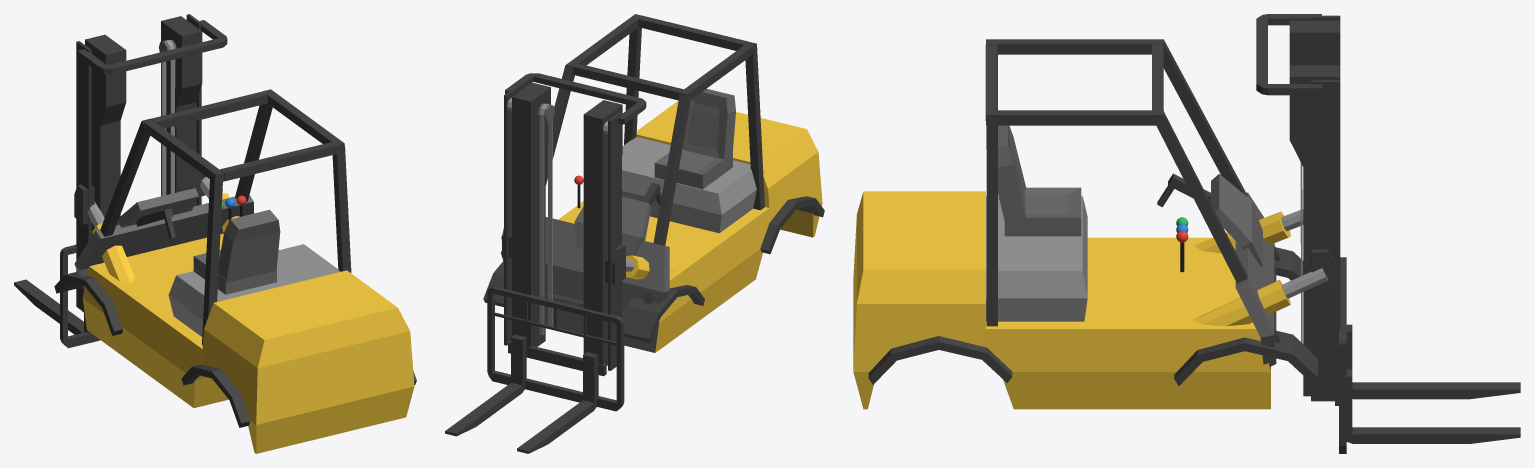
The model's file is body.glb.
3 views of the same model, side by side, from view 1: azimuth 30°, elevation 25°; view 2: azimuth 150°, elevation 25°; view 3: azimuth 270°, elevation 25° (orthographic). The views are drawn at different scales.
Parts seen in each view (by area): view 1: Forklift_Source_52, Forklift_Source_20, Forklift_Source_18, Forklift_Source_50, Forklift_Source_55, Forklift_Source_51, Forklift_Source_19, Forklift_Source_16, Forklift_Source_3, Forklift_Source_13, Forklift_Source_2, Forklift_Source_11 (+14 smaller); view 2: Forklift_Source_52, Forklift_Source_18, Forklift_Source_55, Forklift_Source_20, Forklift_Source_50, Forklift_Source_35, Forklift_Source_51, Forklift_Source_19, Forklift_Source_58, Forklift_Source_2, Forklift_Source_37, Forklift_Source_36 (+19 smaller); view 3: Forklift_Source_52, Forklift_Source_55, Forklift_Source_17, Forklift_Source_18, Forklift_Source_47, Forklift_Source_37, Forklift_Source_36, Forklift_Source_50, Forklift_Source_10, Forklift_Source_15, Forklift_Source_1, Forklift_Source_14 (+15 smaller).
Boxes of the visible parts, x1,y1,x2,y2 form: Forklift_Source_52: (82, 233, 414, 453); Forklift_Source_20: (85, 34, 126, 236); Forklift_Source_18: (161, 16, 202, 206); Forklift_Source_50: (74, 195, 253, 289); Forklift_Source_55: (168, 244, 340, 336); Forklift_Source_51: (218, 209, 280, 282); Forklift_Source_19: (76, 41, 91, 312); Forklift_Source_16: (77, 20, 227, 74); Forklift_Source_3: (202, 173, 222, 344); Forklift_Source_13: (332, 145, 351, 272); Forklift_Source_2: (98, 121, 150, 263); Forklift_Source_11: (220, 142, 337, 181); Forklift_Source_52: (558, 100, 822, 352); Forklift_Source_18: (512, 82, 550, 347); Forklift_Source_55: (622, 137, 756, 233); Forklift_Source_20: (583, 100, 622, 365); Forklift_Source_50: (500, 217, 669, 311); Forklift_Source_35: (487, 286, 624, 411); Forklift_Source_51: (682, 88, 735, 158); Forklift_Source_19: (608, 112, 621, 370); Forklift_Source_58: (539, 103, 552, 335); Forklift_Source_2: (643, 94, 691, 304); Forklift_Source_37: (445, 334, 526, 436); Forklift_Source_36: (517, 352, 598, 453); Forklift_Source_52: (853, 191, 1270, 409); Forklift_Source_55: (986, 196, 1087, 321); Forklift_Source_17: (1311, 80, 1340, 401); Forklift_Source_18: (1289, 65, 1340, 396); Forklift_Source_47: (1004, 187, 1081, 236); Forklift_Source_37: (1346, 369, 1520, 443); Forklift_Source_36: (1346, 324, 1520, 399); Forklift_Source_50: (1235, 192, 1276, 366); Forklift_Source_10: (1174, 330, 1318, 385); Forklift_Source_15: (986, 110, 1163, 125); Forklift_Source_1: (986, 39, 1163, 54); Forklift_Source_14: (1153, 112, 1280, 343).
Bounding box in the file's own units: 1.4 × 2.33 × 3.82.
